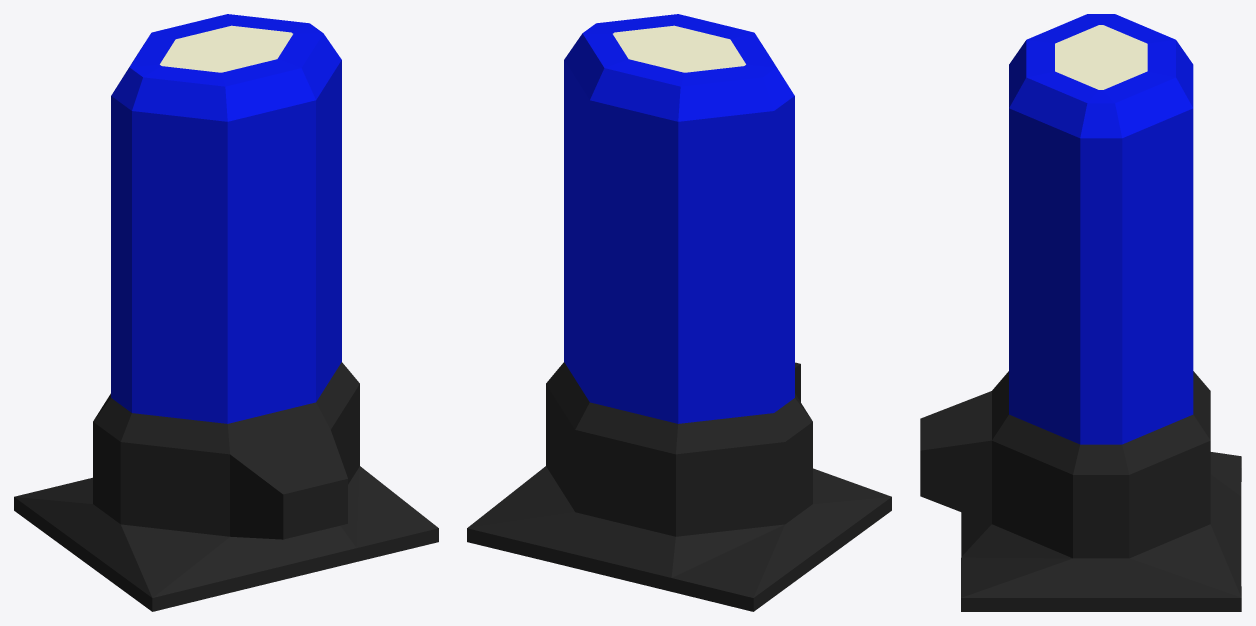
Rendered from charging_station.fbx.
3 renders of one model, left to right at view 1: azimuth 30°, elevation 25°; view 2: azimuth 150°, elevation 25°; view 3: azimuth 270°, elevation 25°, orthographic.
Visible parts, largest first — view 1: Box002; view 2: Box002; view 3: Box002.
Boxes of the visible parts, left/top/right/bottom form: Box002: left=14, top=14, right=438, bottom=611; Box002: left=467, top=14, right=891, bottom=611; Box002: left=920, top=14, right=1241, bottom=611.
Size of the model in its own units: 109 by 174 by 105.
